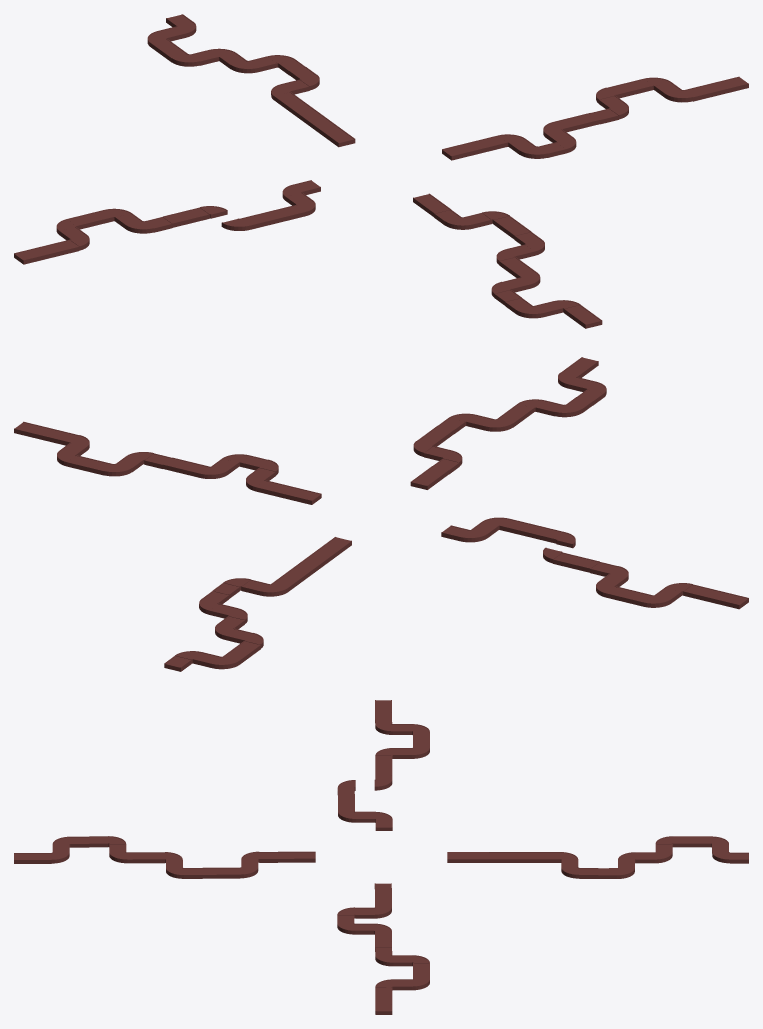
File: routes.glb
The picture shows the model from 3 angles, top to bottom: view 1: azimuth 30°, elevation 25°; view 2: azimuth 150°, elevation 25°; view 3: azimuth 270°, elevation 25°; orthographic projection. The views are drawn at different scales.
Bounding box in the file's own units: 45.22 × 0.3465 × 45.2.
